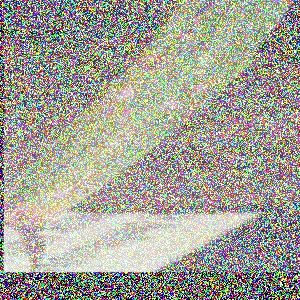Brown_Spot: (111, 41, 178, 81), (178, 66, 226, 104), (94, 77, 143, 111), (147, 95, 183, 126)
